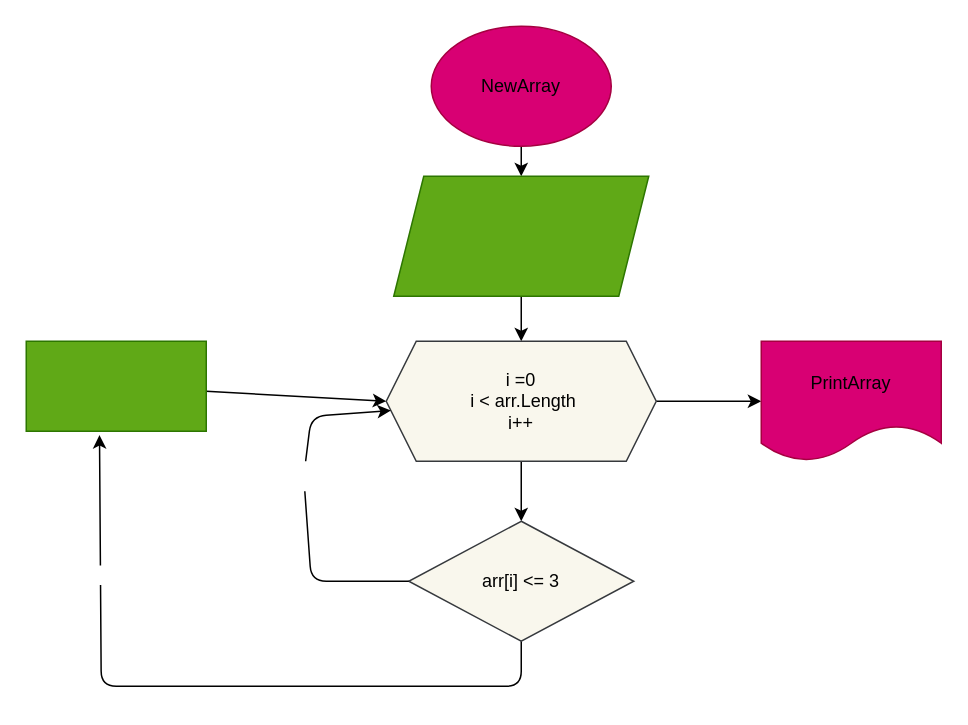
Image size: 968x725. Some labels were removed from this diagram. Here are the shapes that lost their labels. From the top down, the box of each, then its label:
(392, 175, 649, 296): string[] arr string[] arr2 count =0
(25, 340, 206, 431): arr2[count] = arr[i] count++
